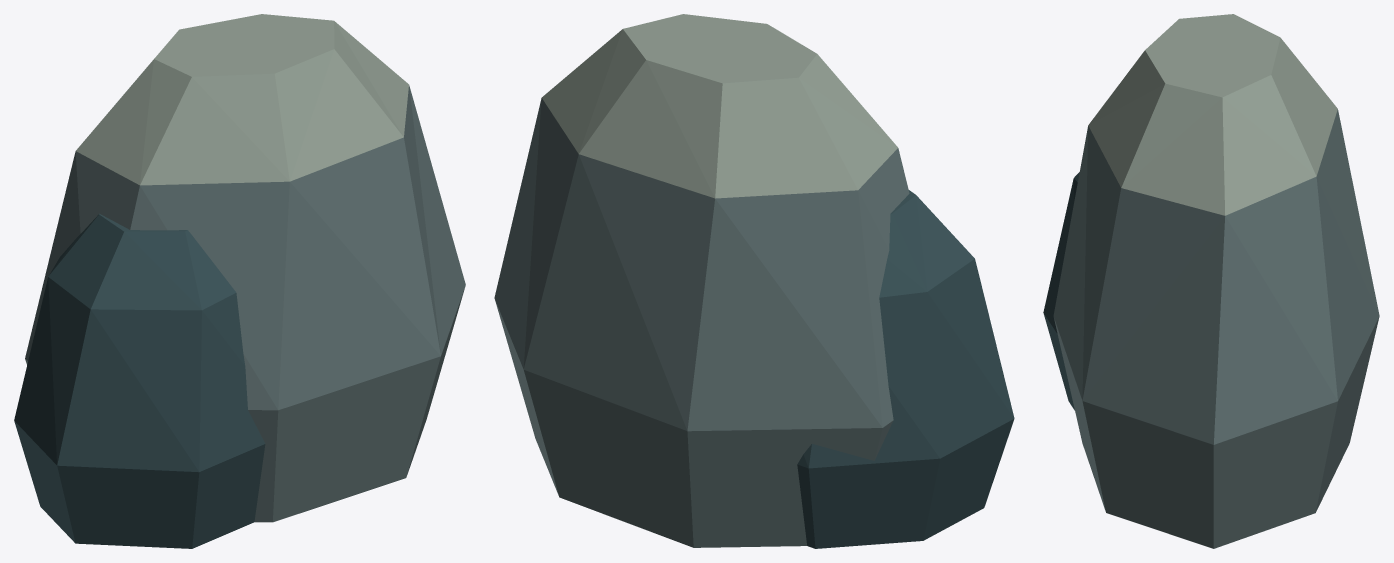
Rendered from cliff-large.glb.
3 renders of one model, left to right at view 1: azimuth 30°, elevation 25°; view 2: azimuth 150°, elevation 25°; view 3: azimuth 270°, elevation 25°, orthographic. The views are drawn at different scales.
Parts seen in each view (by area): view 1: cliff-large__body; view 2: cliff-large__body; view 3: cliff-large__body.
Part boxes in pixels (x1,y1,x2,y2): cliff-large__body: (14, 14, 465, 548); cliff-large__body: (494, 14, 1014, 548); cliff-large__body: (1043, 14, 1379, 548).
Size of the model in its own units: 2.73 by 2.4 by 1.79.
